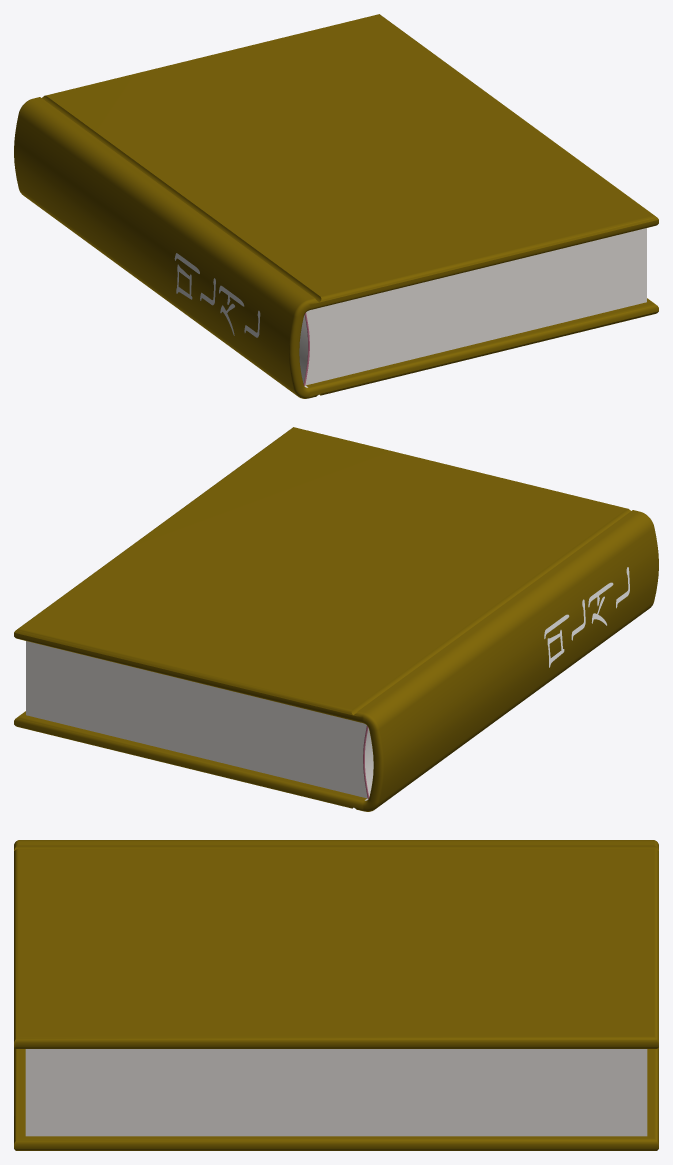
Rendered from book11.glb.
3 views of the same model, one above another, from view 1: azimuth 30°, elevation 25°; view 2: azimuth 150°, elevation 25°; view 3: azimuth 270°, elevation 25° (orthographic). The views are drawn at different scales.
Visible parts, largest first — view 1: Geode, Text; view 2: Geode, Text; view 3: Geode.
Boxes of the visible parts, <box> form: Geode: <box>14,14,658,398</box>; Text: <box>174,253,260,337</box>; Geode: <box>14,427,658,811</box>; Text: <box>544,567,629,667</box>; Geode: <box>14,840,658,1150</box>.
Bounding box in the file's own units: 0.5054 × 0.1292 × 0.6604.
Materials: 3 (1 with a texture image).
